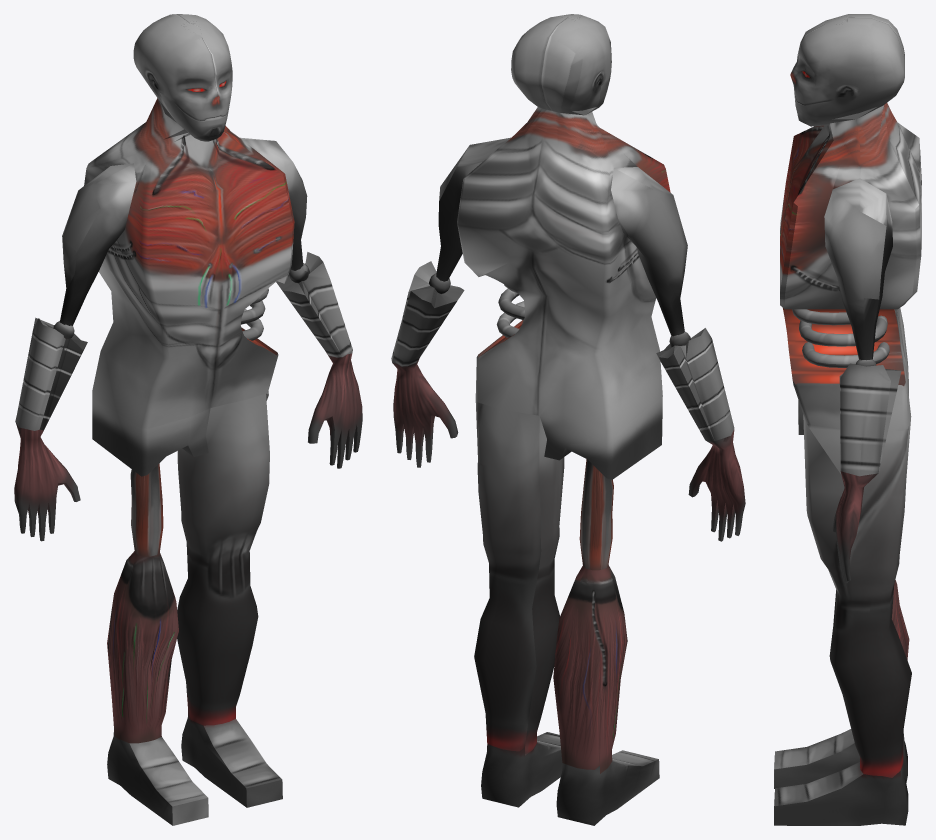
The model's file is Zombie (1).fbx.
3 views of the same model, side by side, from view 1: azimuth 30°, elevation 25°; view 2: azimuth 150°, elevation 25°; view 3: azimuth 270°, elevation 25° (orthographic). The views are drawn at different scales.
Parts seen in each view (by area): view 1: Body; view 2: Body; view 3: Body.
Boxes of the visible parts, x1,y1,x2,y2 form: Body: [14, 14, 362, 825]; Body: [391, 14, 745, 825]; Body: [774, 14, 921, 825].
Size of the model in its own units: 85.18 by 179 by 30.82.
1 material, 1 textured.
